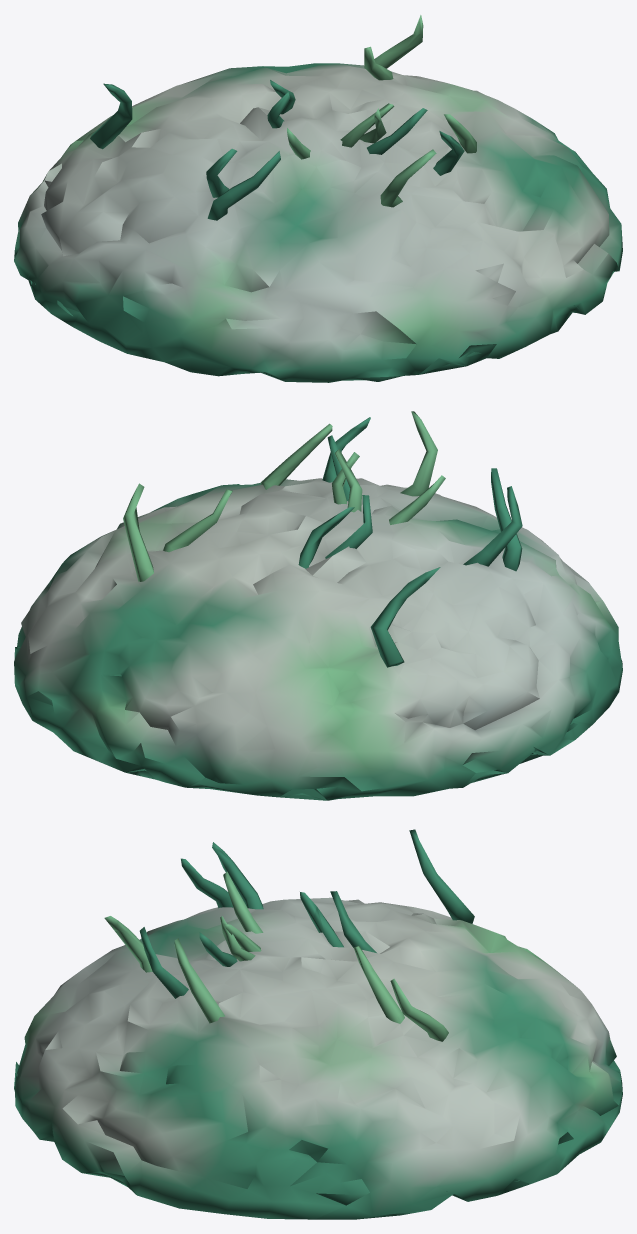
File: grotto_aerator.glb
The picture shows the model from 3 angles, top to bottom: view 1: azimuth 30°, elevation 25°; view 2: azimuth 150°, elevation 25°; view 3: azimuth 270°, elevation 25°; orthographic projection.
Visible parts, largest first — view 1: grotto_aerator; view 2: grotto_aerator; view 3: grotto_aerator.
Boxes of the visible parts, box(x1,y1,x2,y2) form: grotto_aerator: box(14, 15, 622, 382); grotto_aerator: box(14, 411, 622, 800); grotto_aerator: box(14, 829, 622, 1219).
Bounding box in the file's own units: 4.59 × 1.55 × 4.59.
